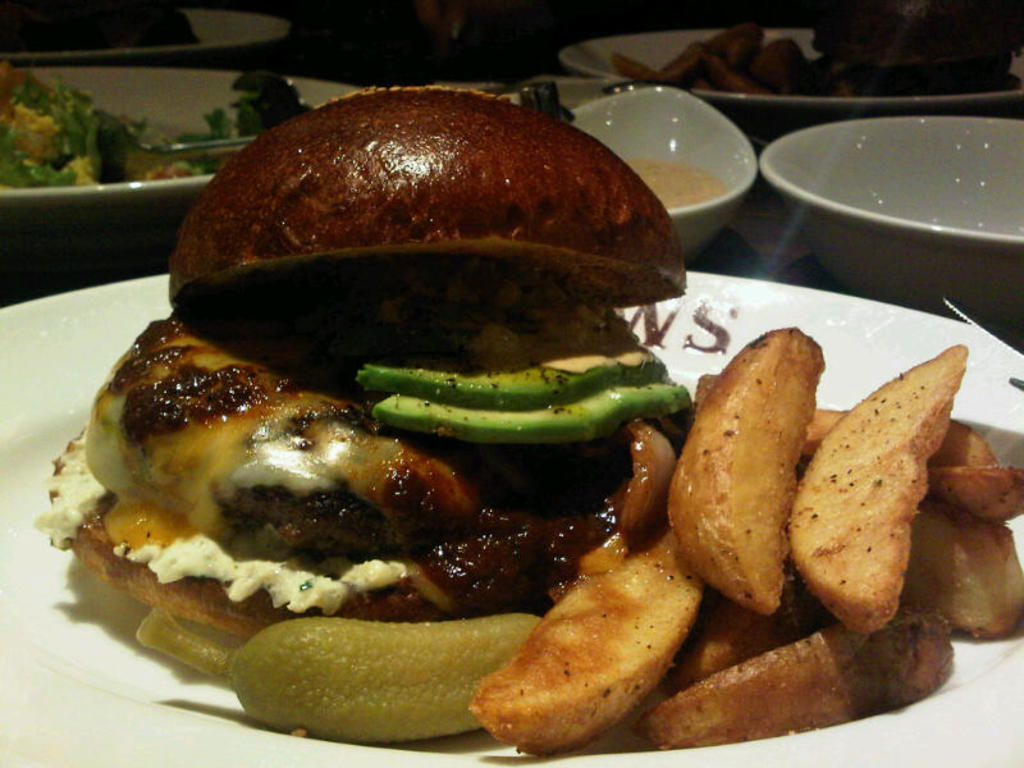Hamburger: (33, 88, 698, 631)
